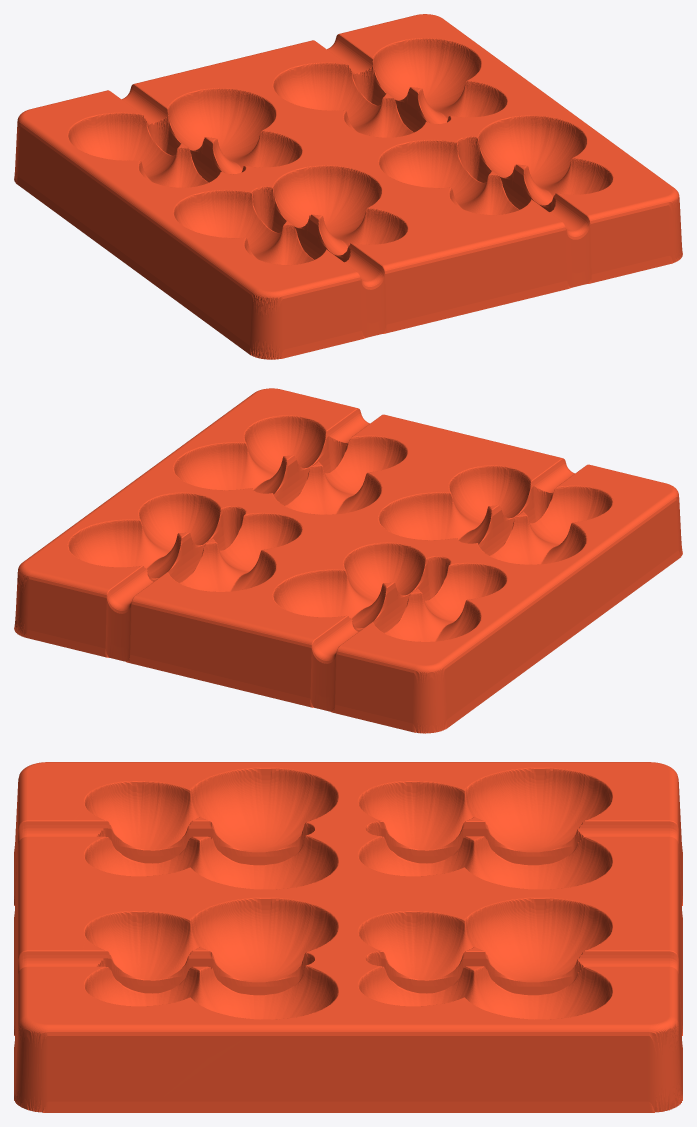
File: mold.glb
3 views of the same model, one above another, from view 1: azimuth 30°, elevation 25°; view 2: azimuth 150°, elevation 25°; view 3: azimuth 270°, elevation 25° (orthographic). The views are drawn at different scales.
Visible parts, largest first — view 1: geometry_0; view 2: geometry_0; view 3: geometry_0.
Part boxes in pixels (left/top/right/bottom): geometry_0: left=14, top=14, right=682, bottom=359; geometry_0: left=14, top=388, right=682, bottom=733; geometry_0: left=14, top=762, right=682, bottom=1112.
Size of the model in its own units: 0.1726 by 0.0245 by 0.179.
